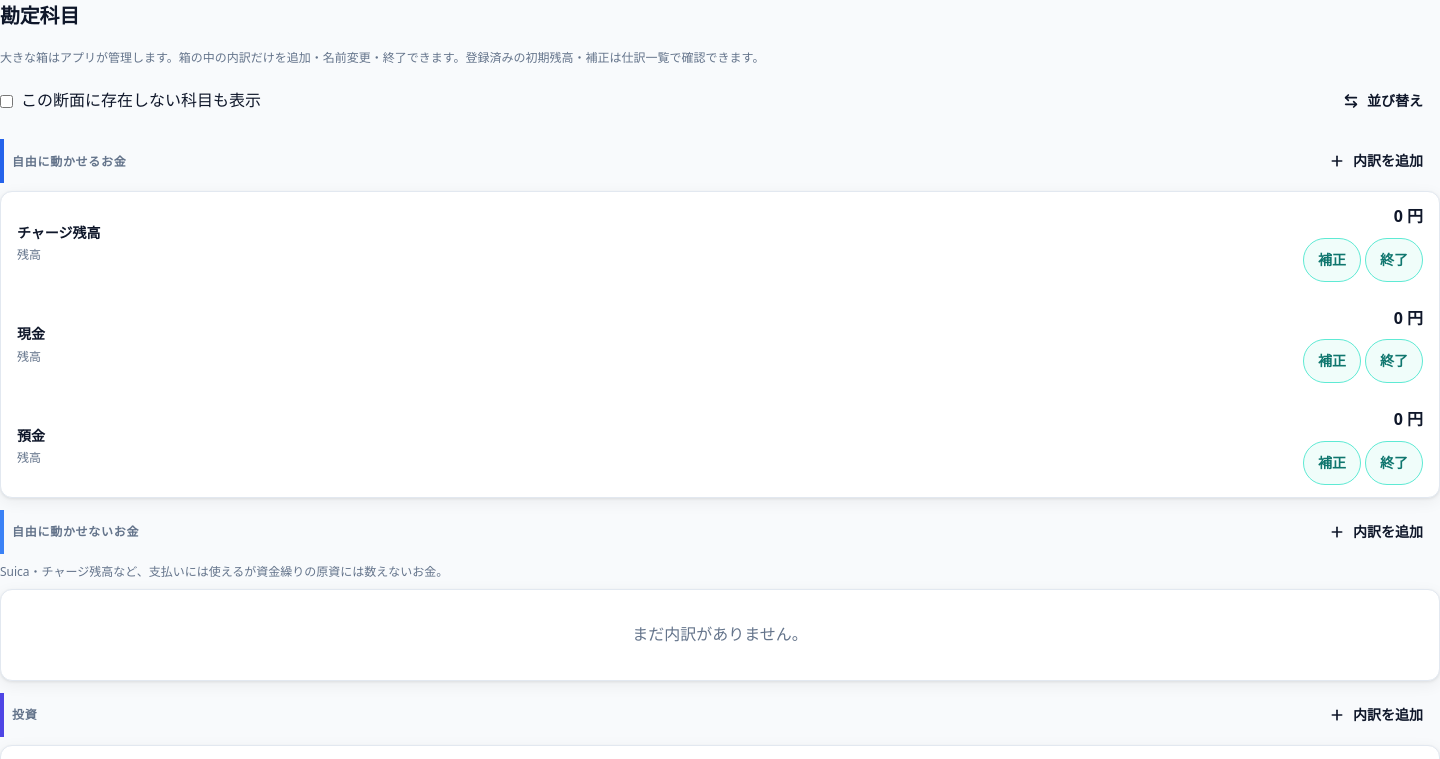
Test: 確認ダイアログの fail-closed（監査 A） › mutation 成功後の refresh 失敗は「未保存」に戻さない（二重実行を誘発しない）
Click the button with aria-label "終了: チャージ残高" at (1394, 260), box x1=1365 y1=238 x2=1423 y2=282
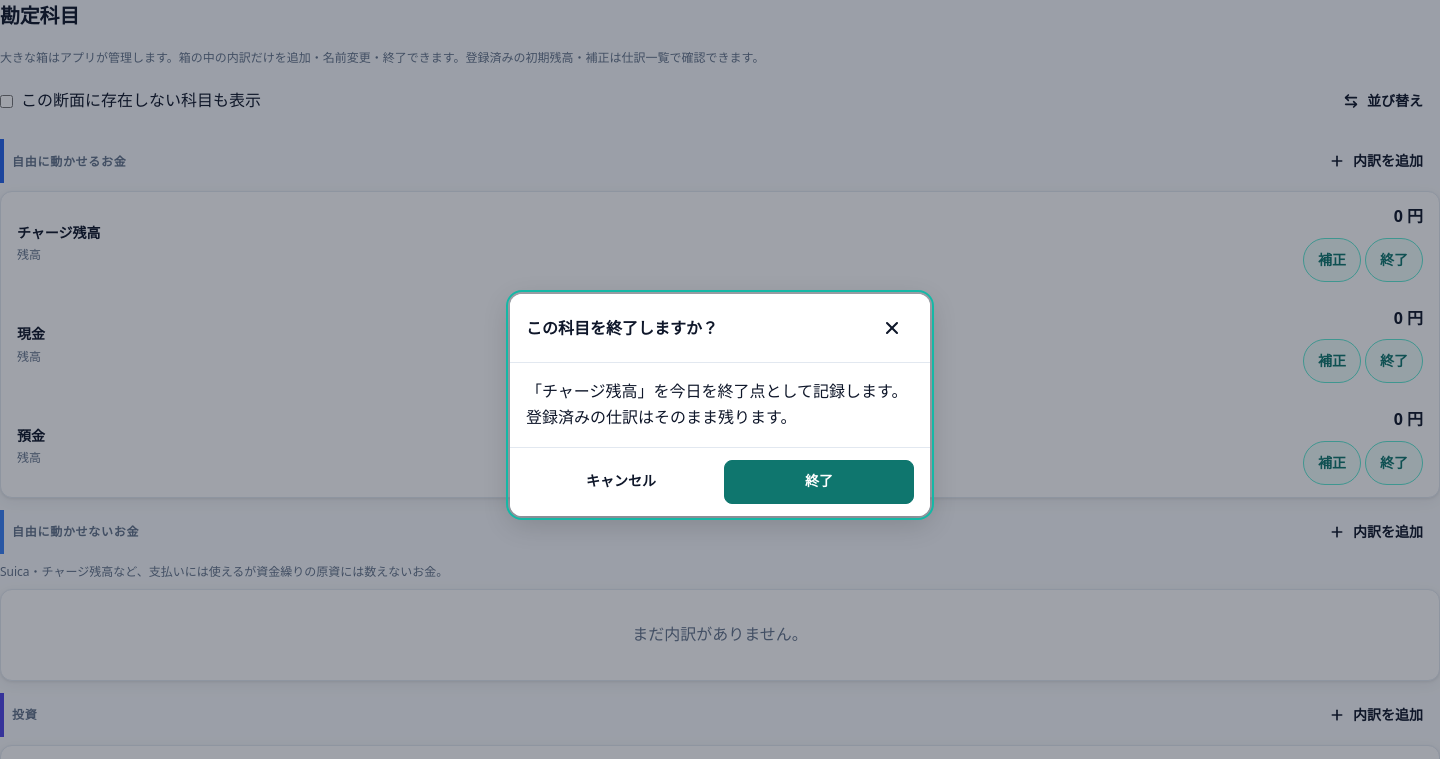
Click the button "終了" at (819, 482), box x1=724 y1=460 x2=914 y2=504
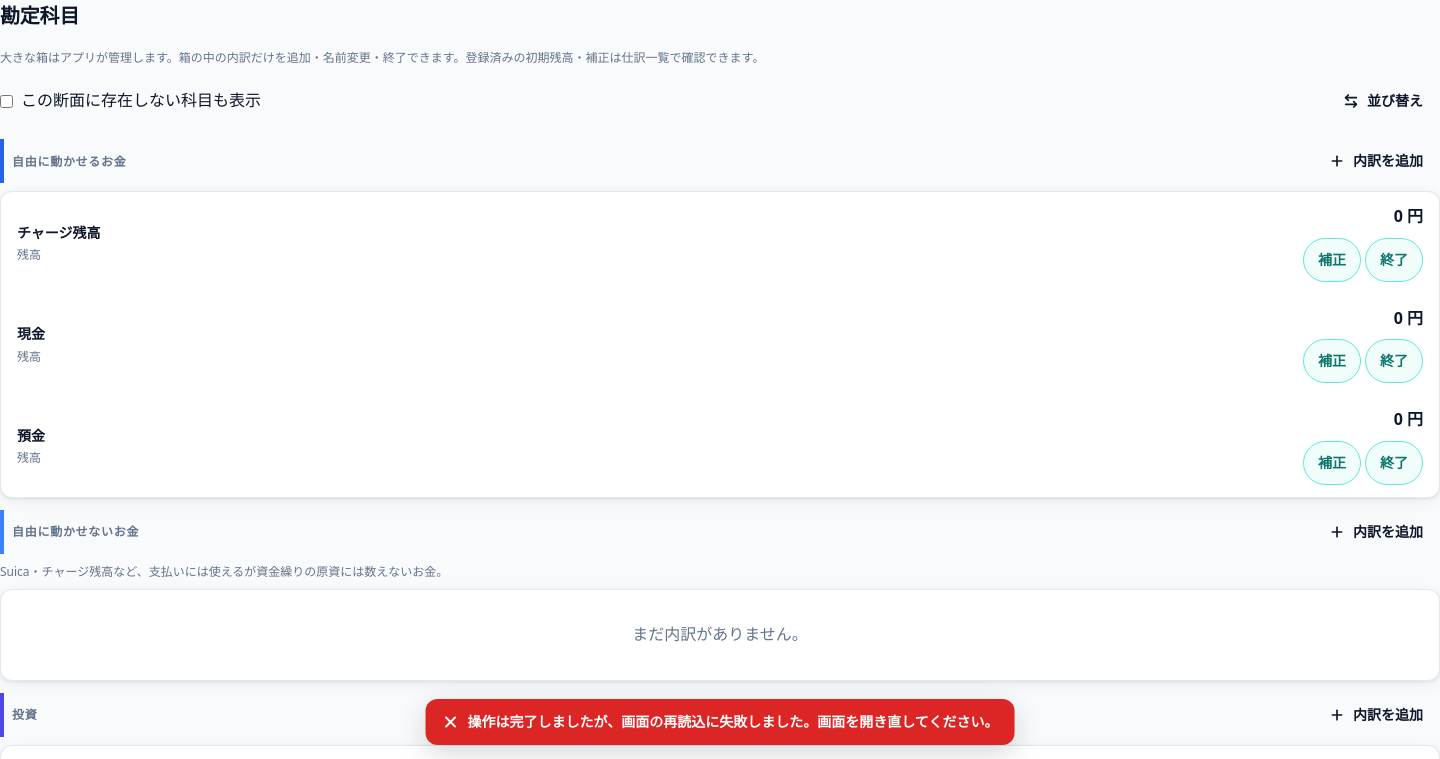
Expected: the text "操作は完了しましたが、画面の再読込に失敗しました。画面を開き直してください。" is shown, x1=468 y1=711 x2=998 y2=733
